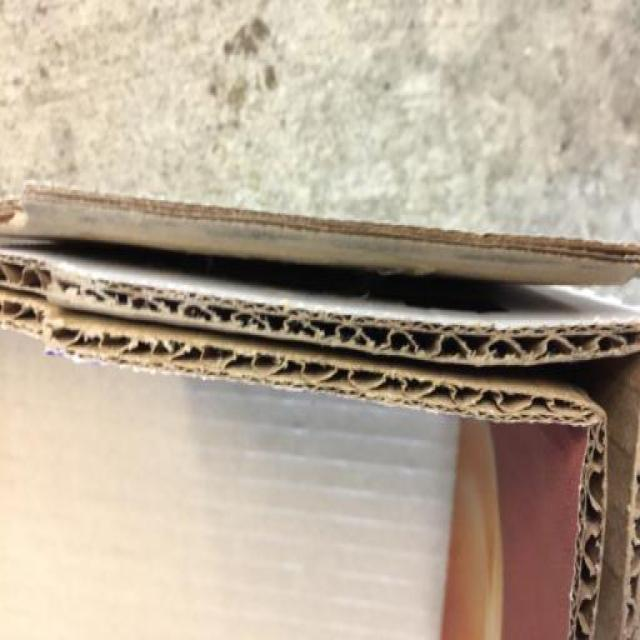Cardboard: (0, 179, 640, 640)
